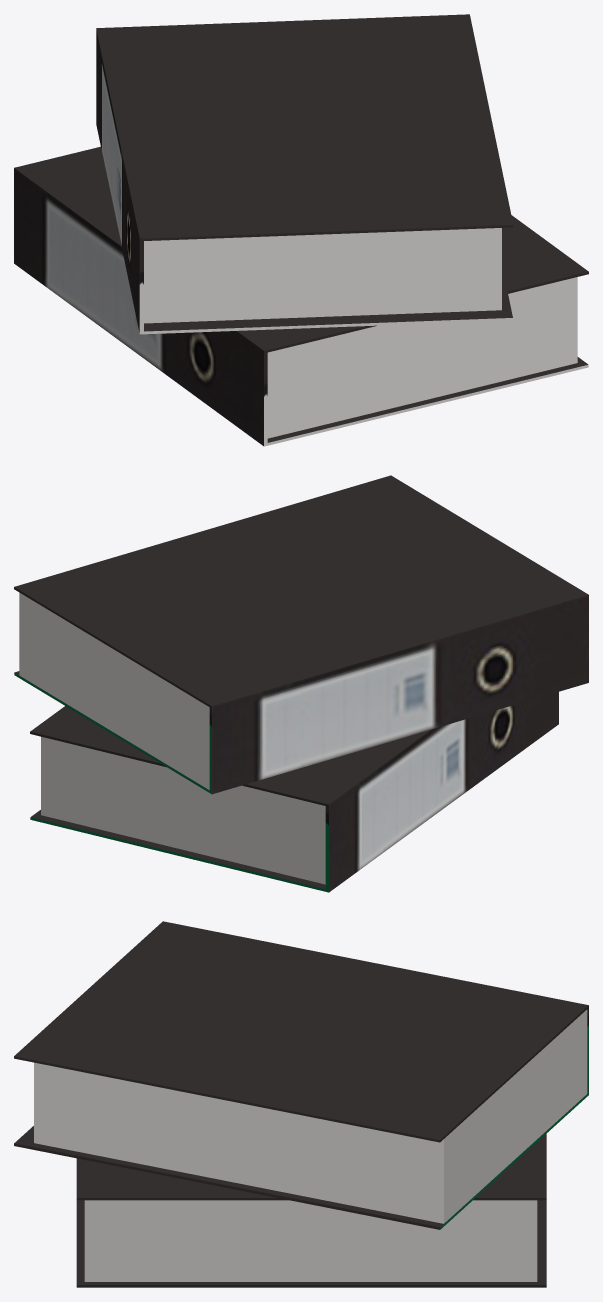
Rendered from Files.FBX.
3 renders of one model, top to bottom at view 1: azimuth 30°, elevation 25°; view 2: azimuth 150°, elevation 25°; view 3: azimuth 270°, elevation 25°, orthographic. The views are drawn at different scales.
Parts seen in each view (by area): view 1: Files; view 2: Files; view 3: Files.
Part boxes in pixels (box(x1,y1,x2,y2)): Files: box(14, 14, 588, 446); Files: box(14, 475, 588, 892); Files: box(14, 921, 588, 1287).
Size of the model in its own units: 266 by 295 by 103.
1 material, 1 textured.
